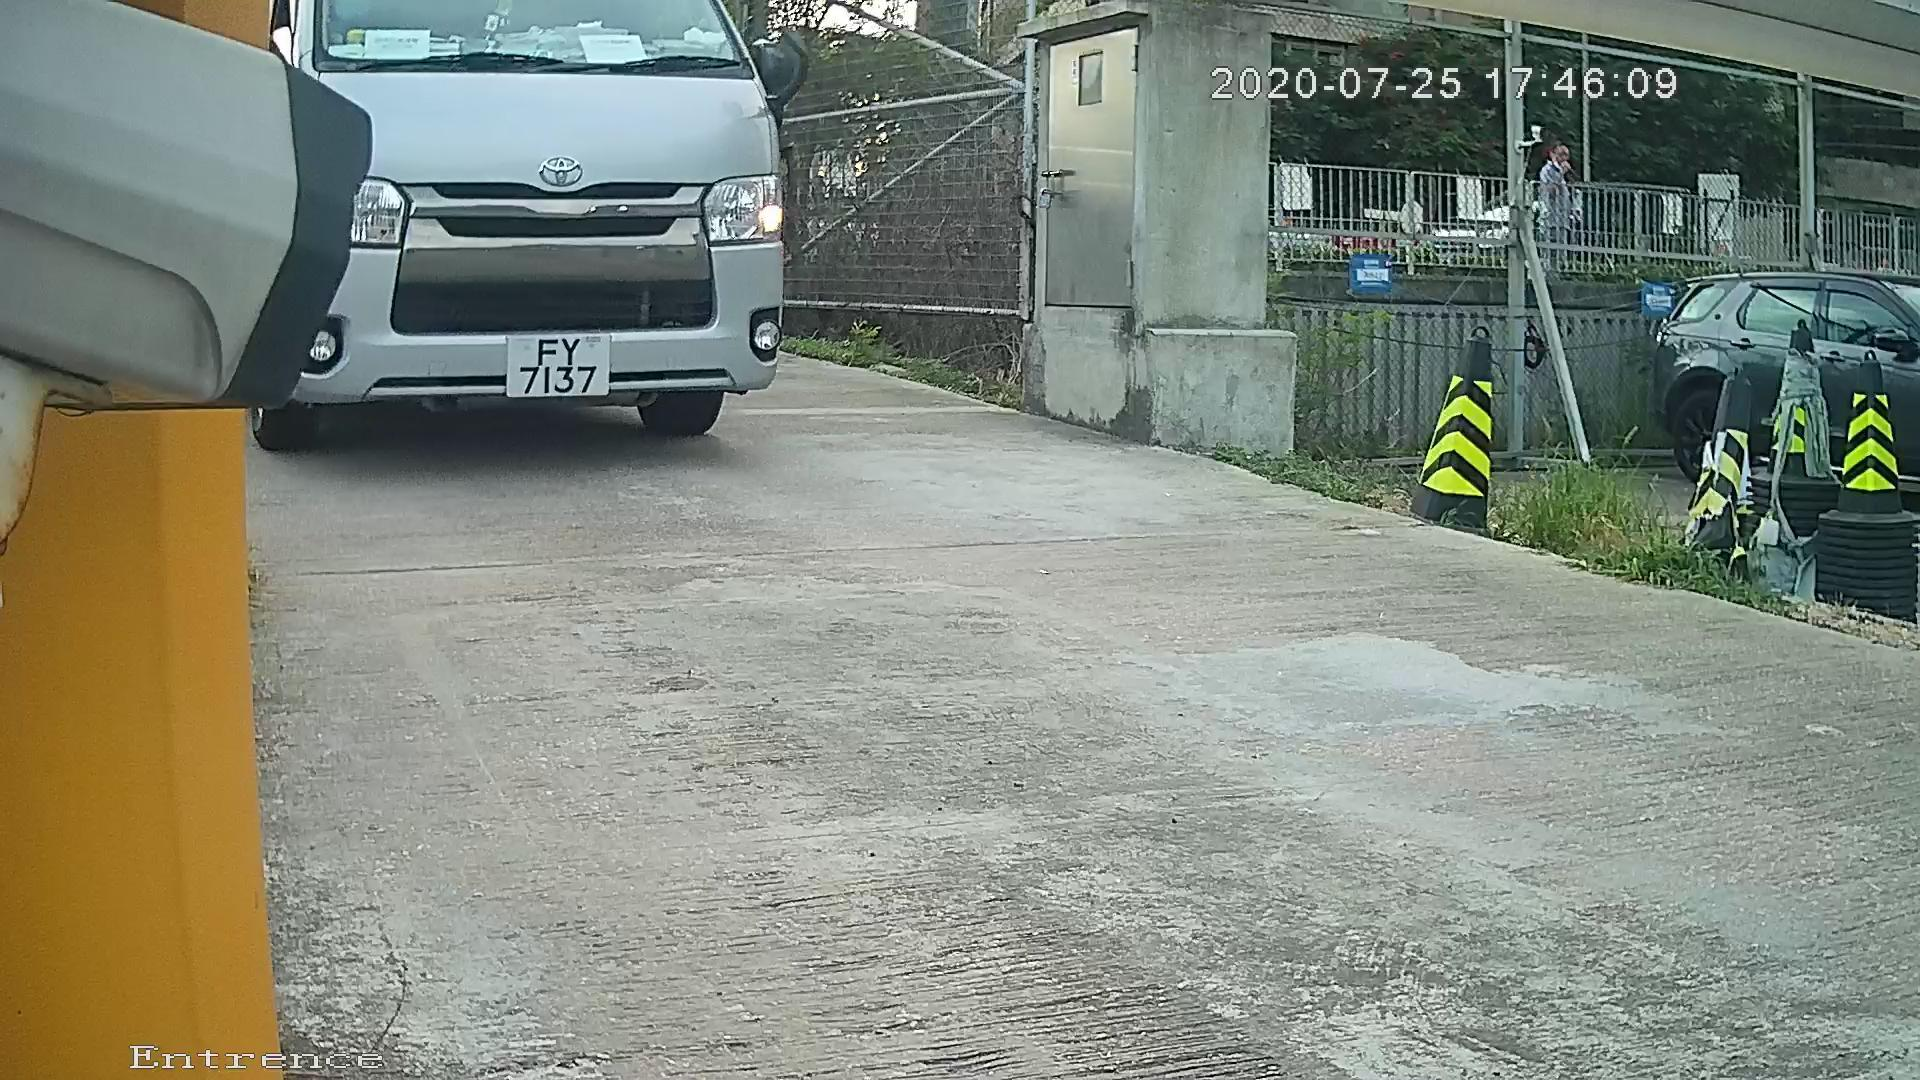privatecar: (198, 1, 823, 497)
